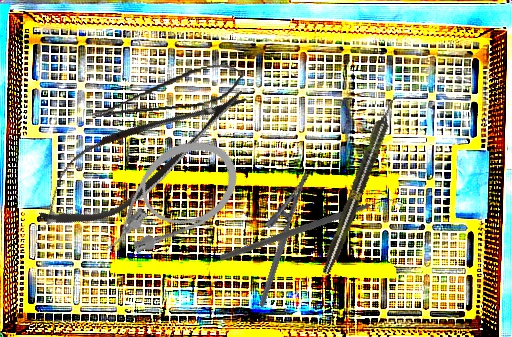Cannula: (79, 124, 253, 273)
Chopper: (217, 135, 405, 329)
Handpiece: (318, 92, 402, 277)
Micro Scissor: (21, 62, 264, 249), (86, 58, 249, 125)
Needle Holder: (239, 164, 312, 308)
